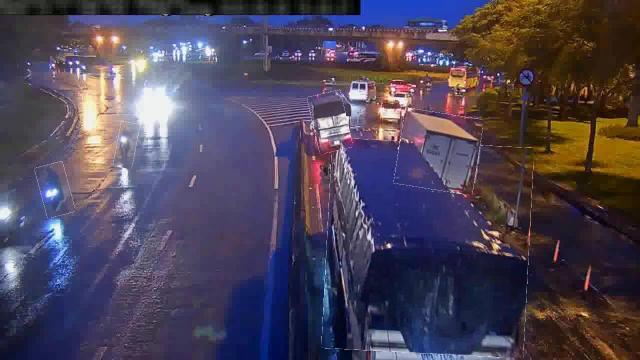Bike: (38, 162, 72, 218), (114, 122, 138, 168)
Truck: (324, 140, 532, 356), (397, 110, 481, 192), (310, 92, 350, 153)
